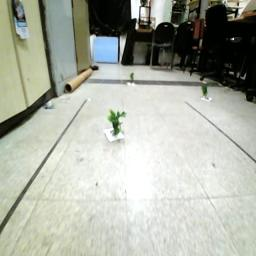herb: (108, 109, 130, 137), (202, 86, 212, 99), (130, 73, 137, 84)
